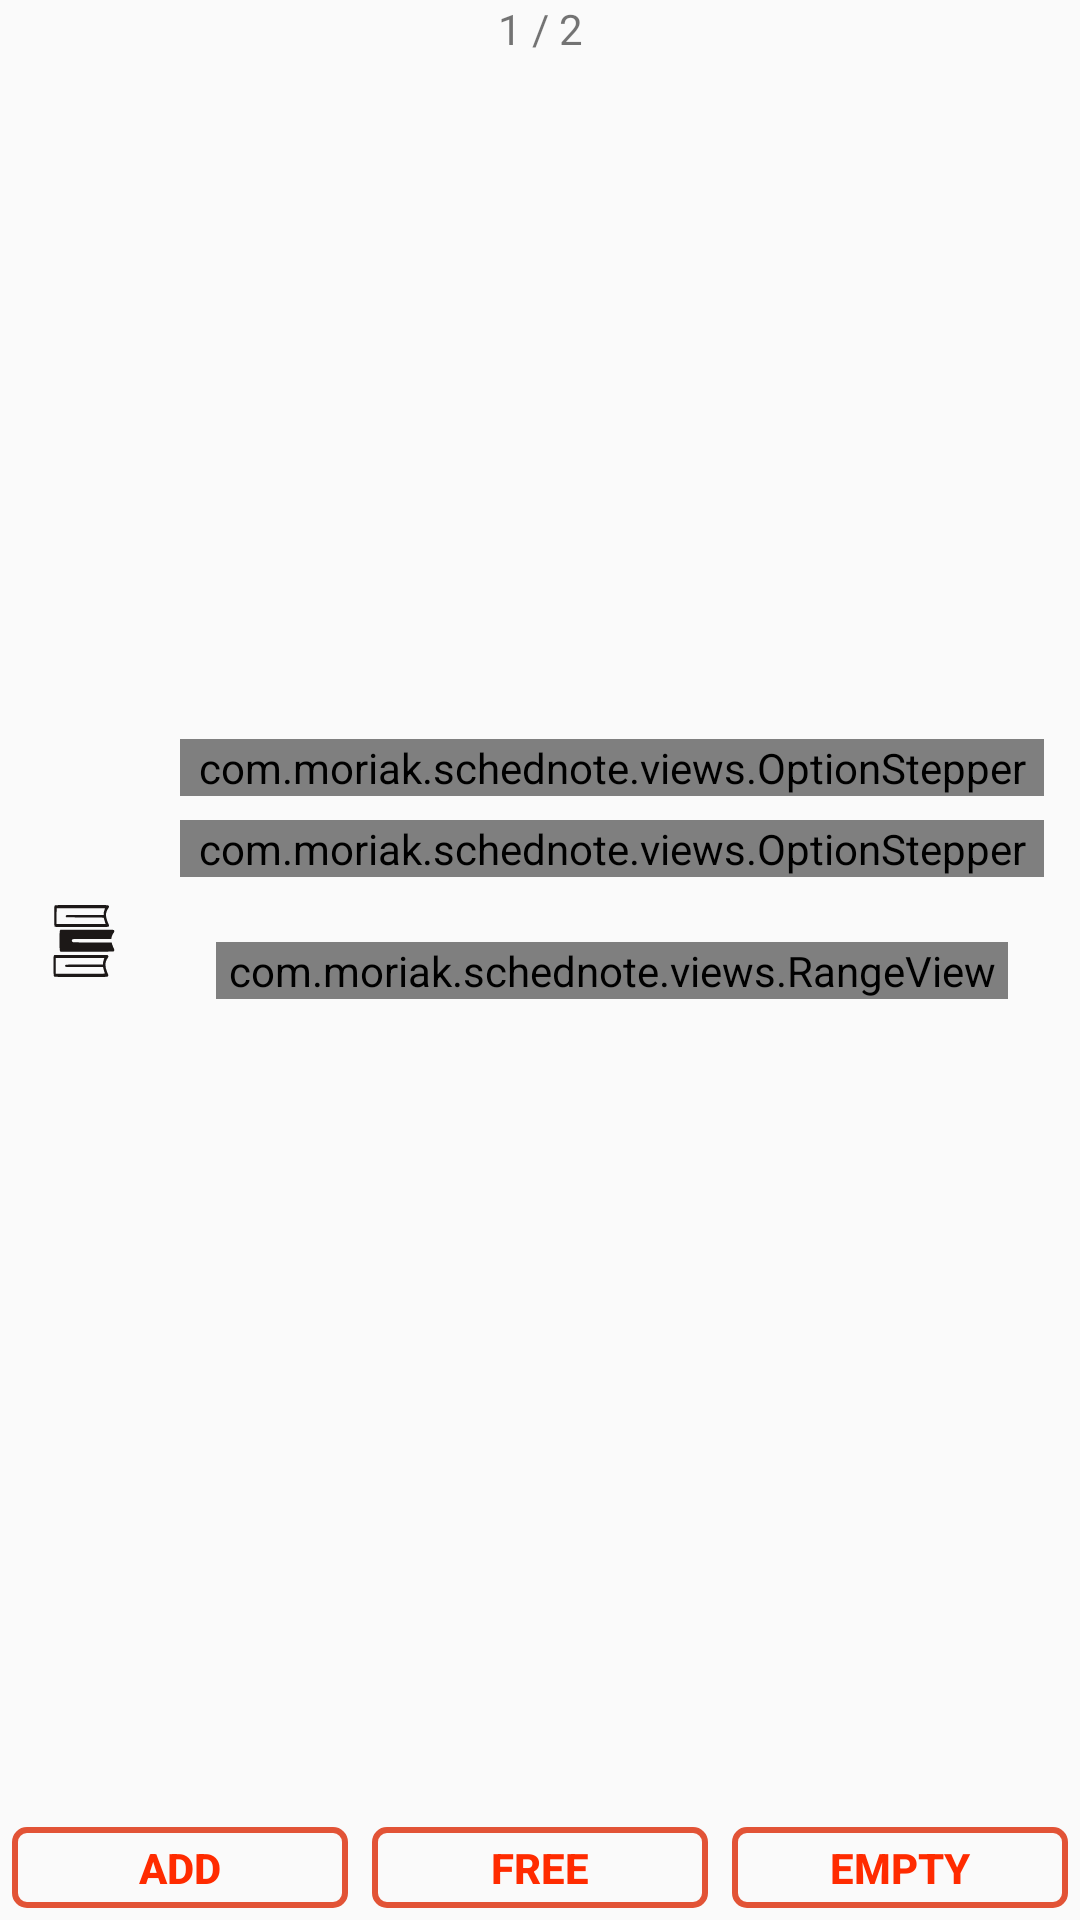

Where icons sit on this 1080w x 1920h app screen, as (x1, y1, x2, y2):
Lesson: (53, 905, 115, 977)
